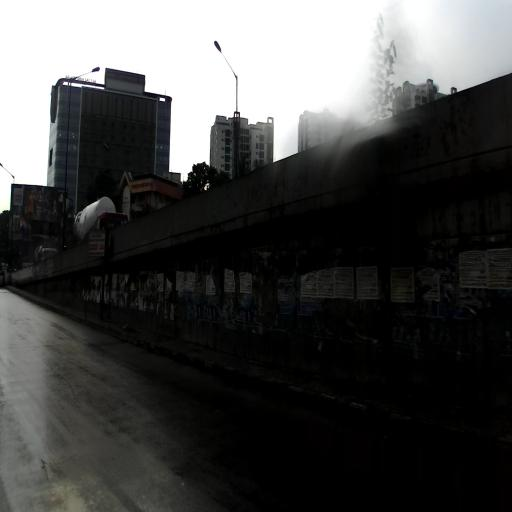street_light_0: (214, 41, 238, 85), (70, 67, 100, 84), (0, 164, 14, 179)
